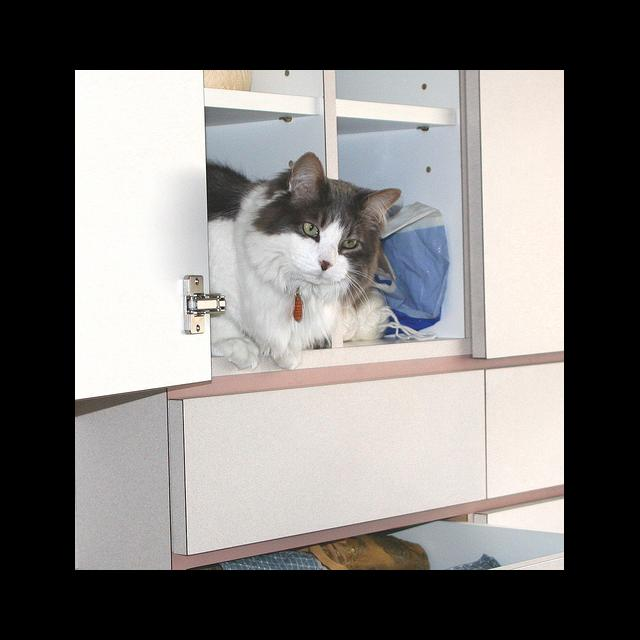animals: (286, 150, 399, 269)
